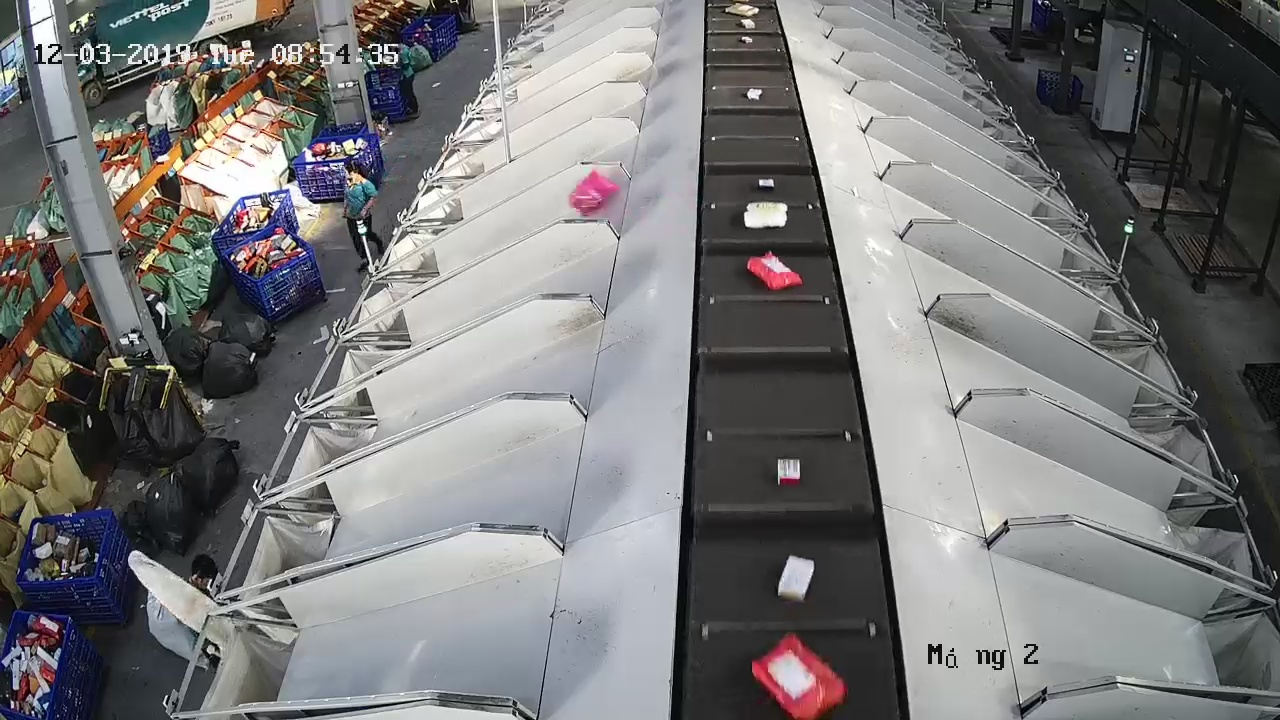parcel: (750, 631, 850, 720), (567, 168, 622, 218), (746, 249, 805, 291), (776, 552, 816, 605), (742, 200, 790, 231), (774, 456, 802, 487), (757, 177, 776, 192)
